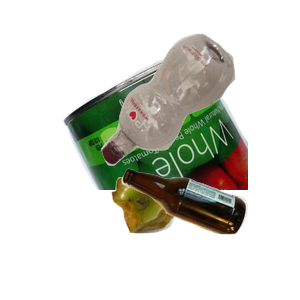glass: (119, 166, 300, 300)
metal: (60, 48, 300, 228)
plastic: (99, 31, 300, 189)
trash: (109, 175, 279, 300)
